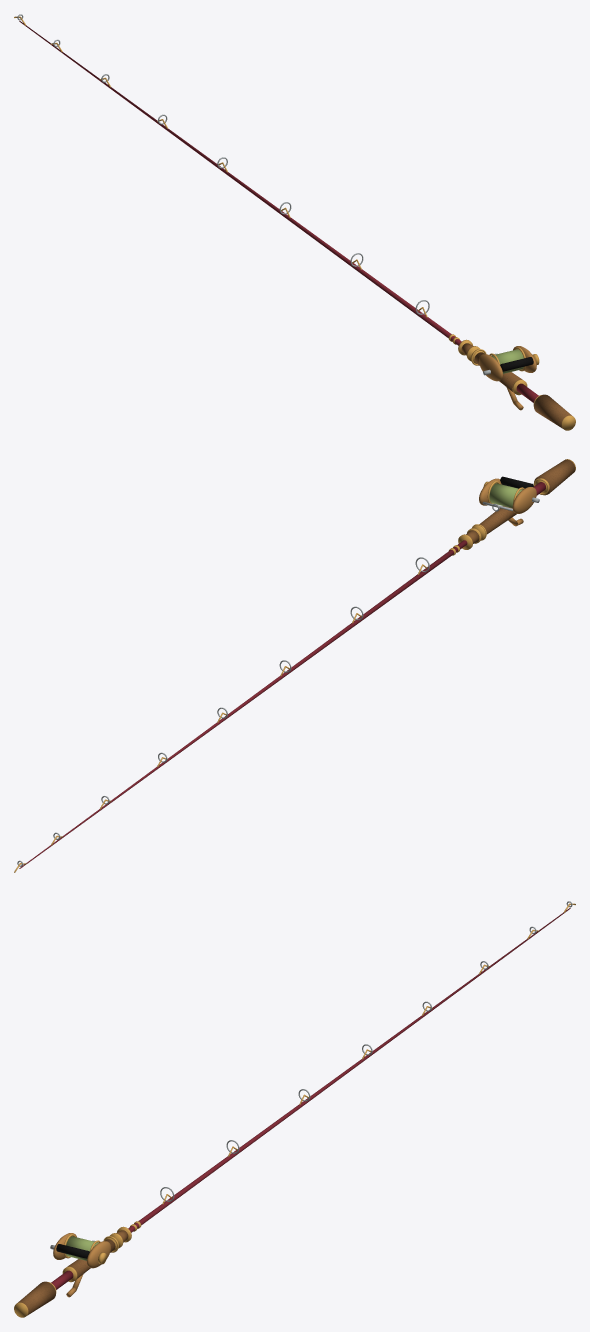
The model's file is heron_lure.glb.
3 views of the same model, one above another, from view 1: azimuth 30°, elevation 25°; view 2: azimuth 150°, elevation 25°; view 3: azimuth 330°, elevation 25° (orthographic).
Parts seen in each view (by area): view 1: Fast action blank.006; view 2: Fast action blank.006; view 3: Fast action blank.006.
Part boxes in pixels (x1,y1,x2,y2): Fast action blank.006: (14,14,575,430); Fast action blank.006: (14,459,575,872); Fast action blank.006: (14,901,575,1317).
Size of the model in its own units: 0.106 by 0.0943 by 1.94.
7 materials, 2 textured.
